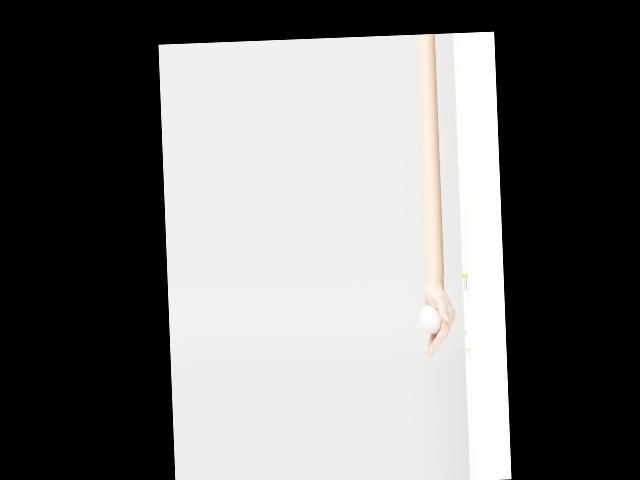egg: (421, 304, 442, 334)
